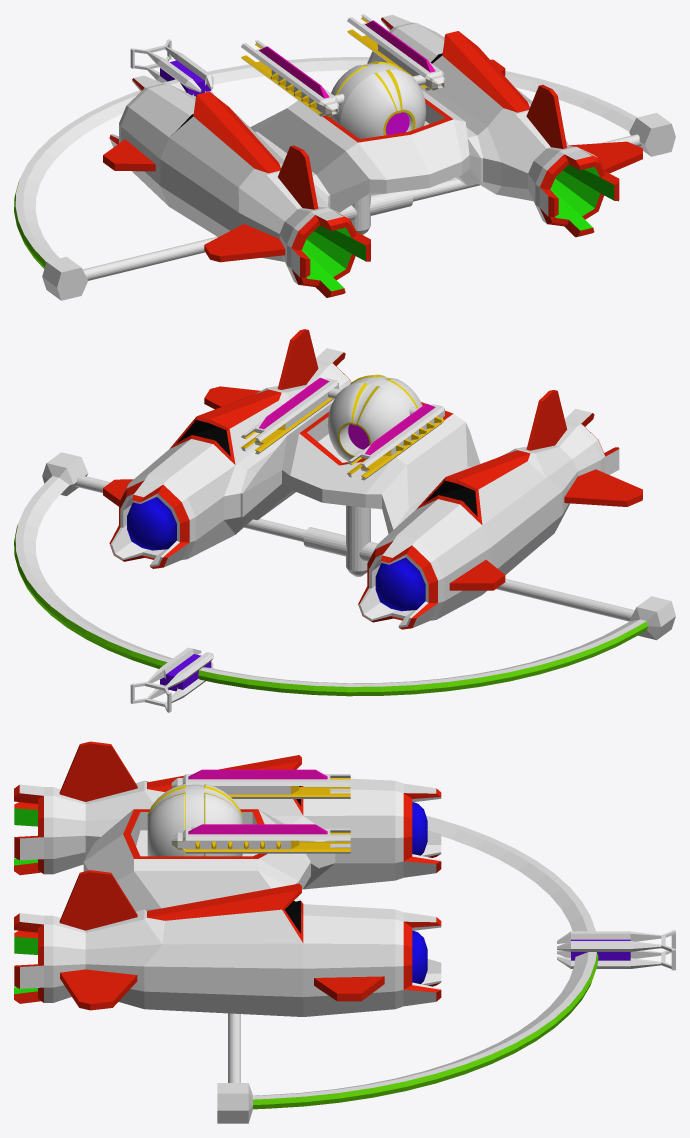
Rendered from 2pShip.fbx.
3 renders of one model, top to bottom at view 1: azimuth 30°, elevation 25°; view 2: azimuth 150°, elevation 25°; view 3: azimuth 270°, elevation 25°, orthographic. The views are drawn at different scales.
Visible parts, largest first — view 1: Cube, Circle, Sphere, Cube.001, Cylinder.002, Cube.002, Cylinder.001; view 2: Cube, Circle, Cube.001, Sphere, Cylinder.002, Cube.002, Cylinder.001; view 3: Cube, Circle, Cube.001, Sphere, Cube.002, Cylinder.002.
Part boxes in pixels (x1,y1,x2,y2): Cube: [103, 15, 642, 297]; Circle: [14, 57, 675, 300]; Sphere: [328, 61, 426, 138]; Cube.001: [241, 14, 444, 116]; Cylinder.002: [82, 134, 641, 280]; Cube.002: [130, 39, 213, 97]; Cylinder.001: [351, 195, 370, 234]; Cube: [103, 329, 642, 629]; Circle: [14, 452, 675, 696]; Cube.001: [241, 377, 444, 480]; Sphere: [327, 374, 422, 461]; Cylinder.002: [75, 475, 634, 621]; Cube.002: [130, 647, 213, 712]; Cylinder.001: [346, 505, 370, 576]; Cube: [14, 741, 441, 1016]; Circle: [217, 815, 598, 1123]; Cube.001: [171, 769, 350, 853]; Sphere: [147, 784, 242, 856]; Cube.002: [557, 930, 675, 970]; Cylinder.002: [228, 1013, 240, 1082].
Size of the model in its own units: 2698 by 752 by 2359.
